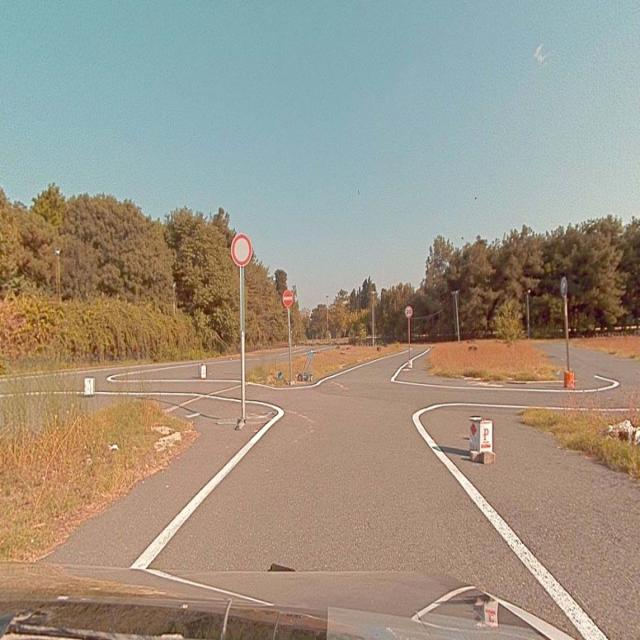20: (405, 306, 413, 317)
girisyok: (283, 290, 293, 306)
